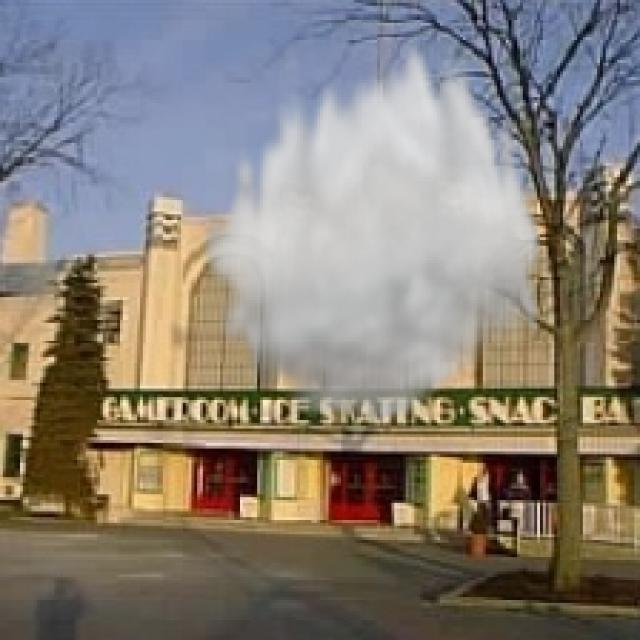Smoke: (197, 26, 546, 432)
